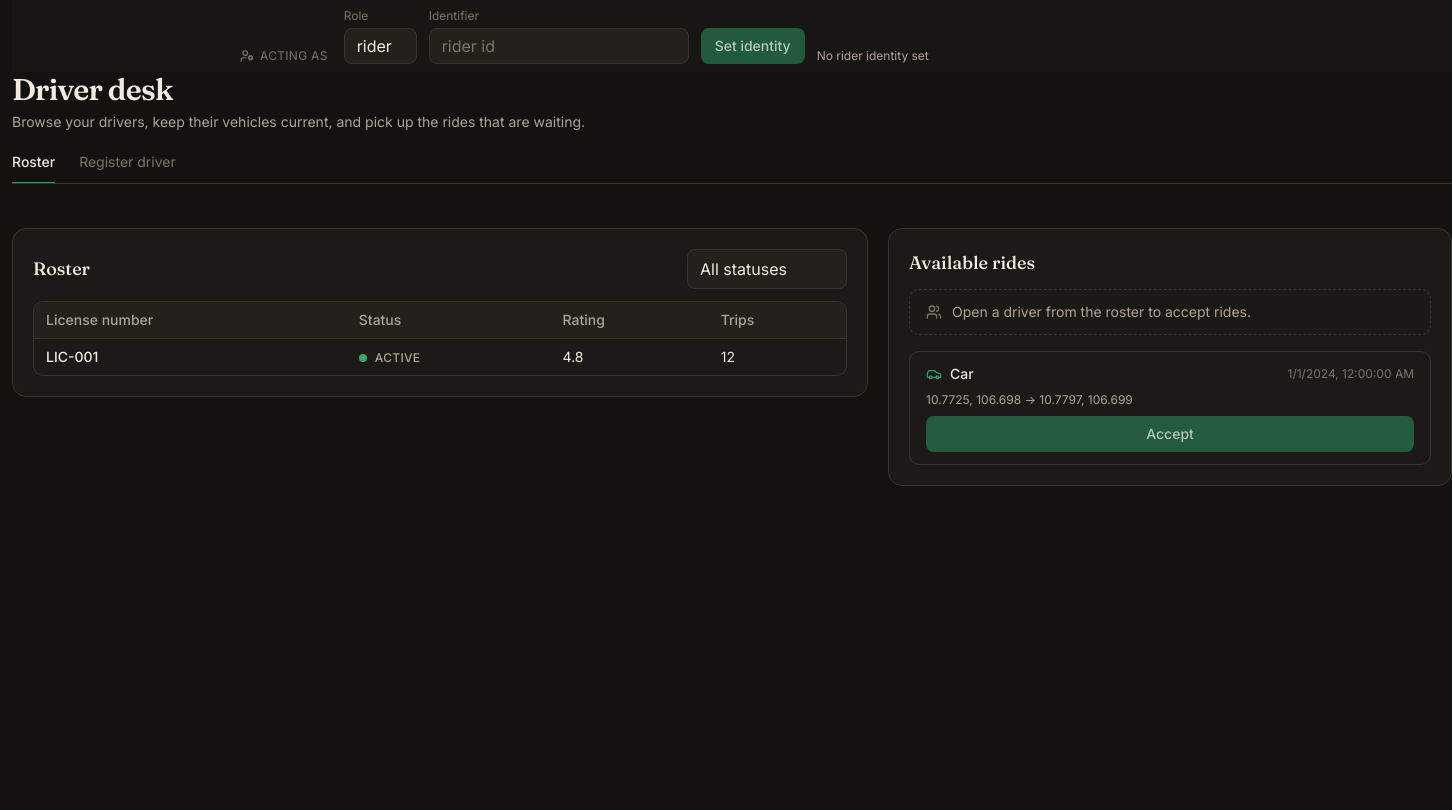
Test: Feature: ridenow-frontend, driver roster › shows 'This ride was just taken' and refetches on a 409 conflict
This screenshot has width=1452, height=810.
What coordinates should you click on to do the following:
click the button with aria-label "Open driver LIC-001"
I would click on:
 (72, 356)
Its box is [34,338,846,375].
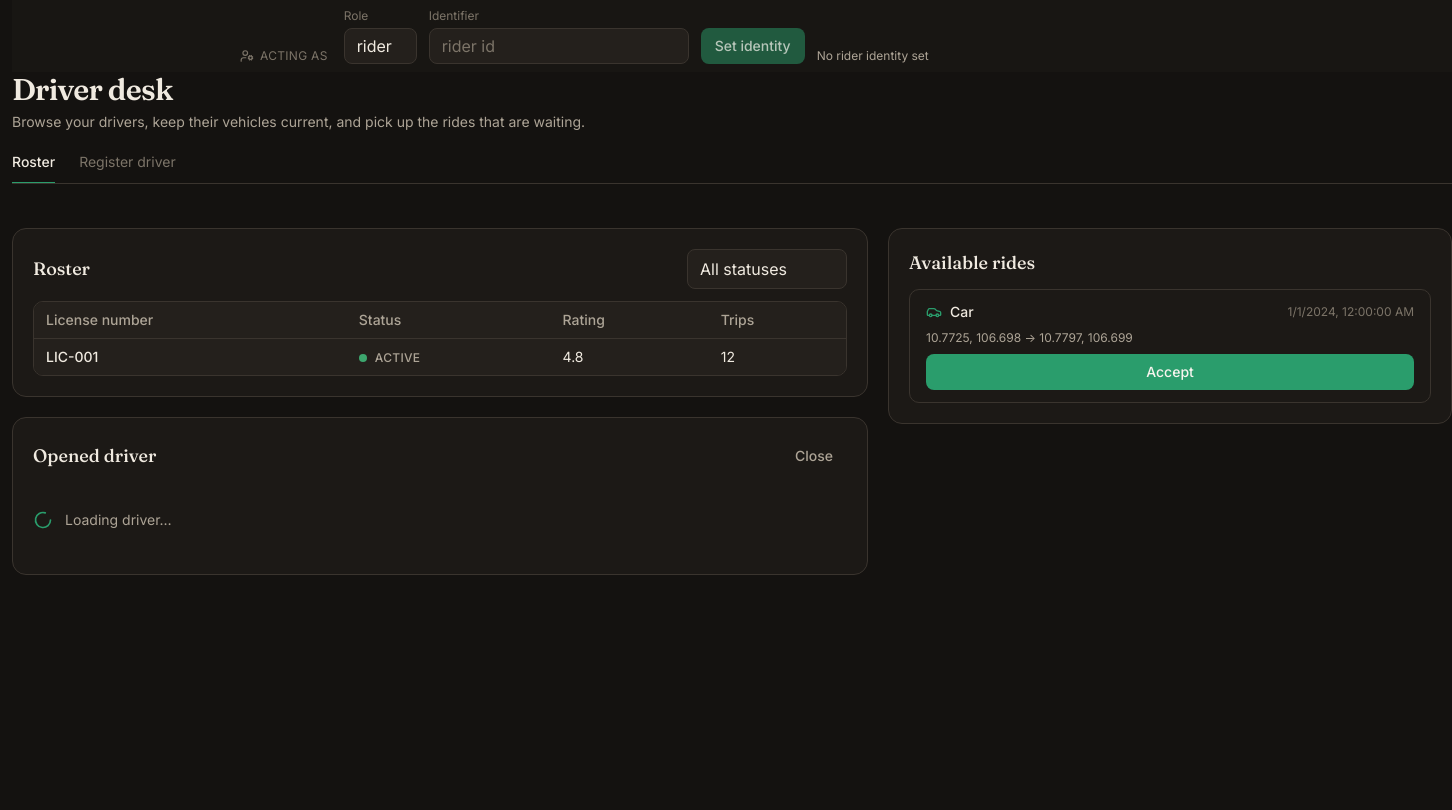
What coordinates should you click on to do the following:
click the button "Accept"
I would click on:
 (1170, 372)
Its box is [926,354,1414,390].
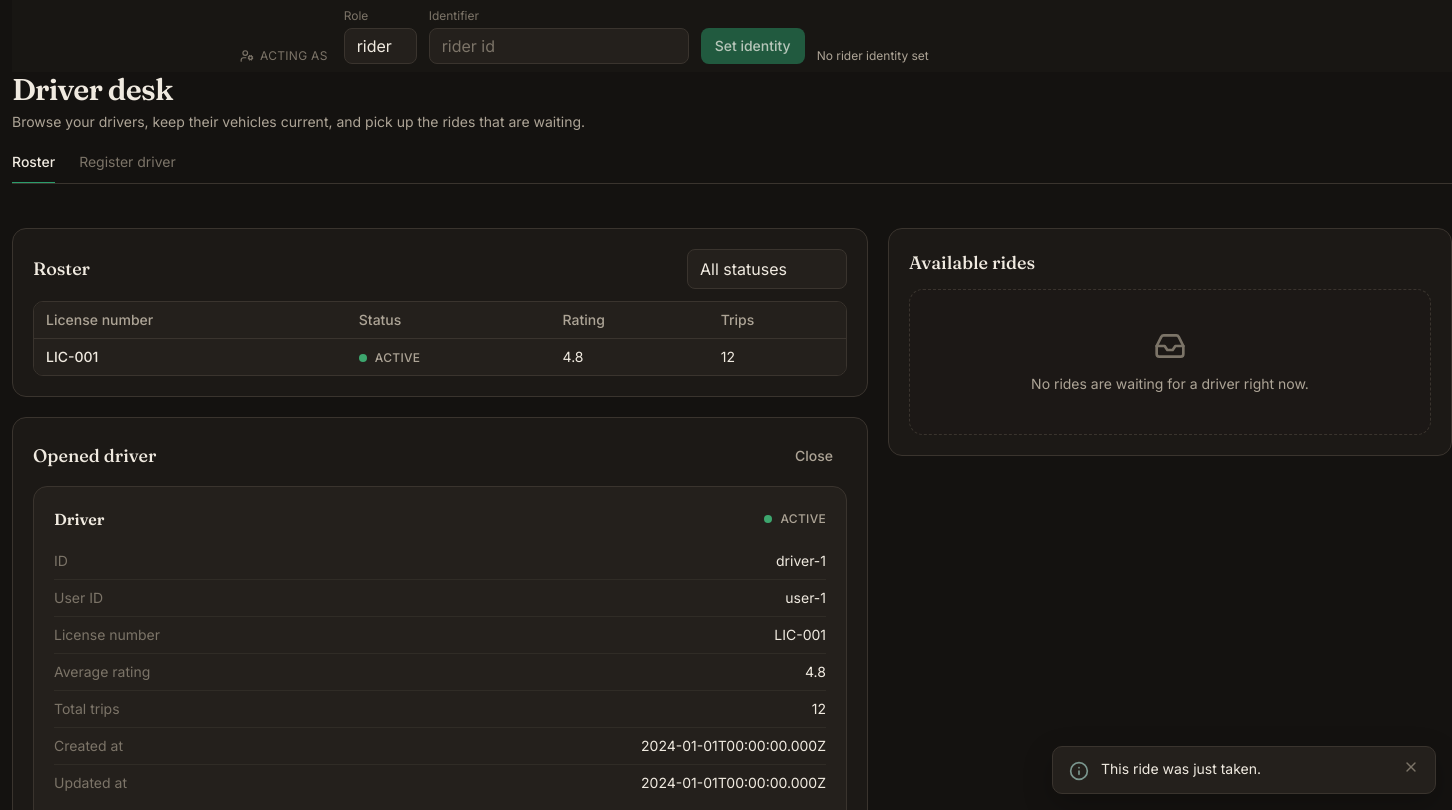
expect the text "This ride was just taken." is shown: met, box [1101,760,1261,777]
